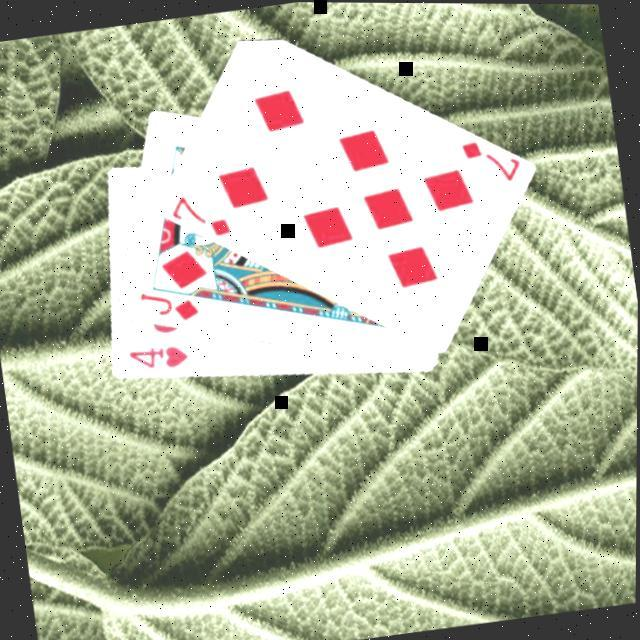4H: (125, 338, 193, 377)
7D: (456, 130, 525, 190), (168, 184, 236, 244)
JD: (136, 280, 204, 329)
